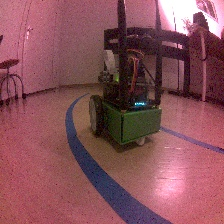rob: (88, 48, 162, 146)
